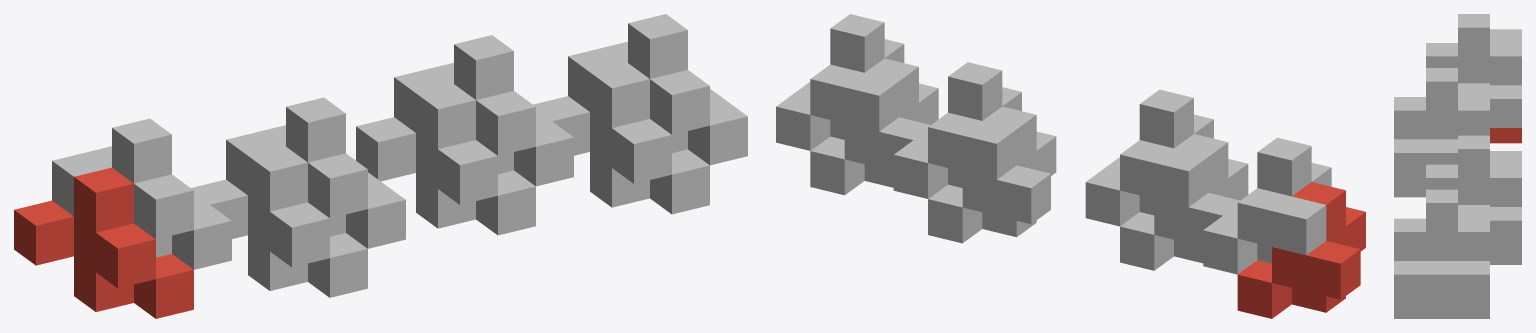
The model's file is tiling.obj.
3 renders of one model, left to right at view 1: azimuth 30°, elevation 25°; view 2: azimuth 150°, elevation 25°; view 3: azimuth 270°, elevation 25°, orthographic. The views are drawn at different scales.
Parts seen in each view (by area): view 1: copy_1_domain_1, copy_1_domain_5, copy_1_domain_6, copy_1_domain_2, copy_1_domain_3, copy_1_domain_4, copy_1_domain_7, copy_1_domain_8; view 2: copy_1_domain_4, copy_1_domain_3, copy_1_domain_7, copy_1_domain_8, copy_1_domain_5, copy_1_domain_1, copy_1_domain_2, copy_1_domain_6; view 3: copy_1_domain_8, copy_1_domain_4, copy_1_domain_7, copy_1_domain_3, copy_1_domain_6, copy_1_domain_1, copy_1_domain_2, copy_1_domain_5.
Boxes of the visible parts, x1=… form: copy_1_domain_1: x1=14, y1=167, x2=193, y2=318; copy_1_domain_5: x1=356, y1=84, x2=535, y2=235; copy_1_domain_6: x1=533, y1=63, x2=709, y2=214; copy_1_domain_2: x1=191, y1=146, x2=367, y2=297; copy_1_domain_3: x1=52, y1=118, x2=231, y2=269; copy_1_domain_4: x1=226, y1=97, x2=405, y2=248; copy_1_domain_7: x1=394, y1=35, x2=573, y2=186; copy_1_domain_8: x1=568, y1=14, x2=747, y2=165; copy_1_domain_4: x1=1085, y1=89, x2=1213, y2=226; copy_1_domain_3: x1=1203, y1=137, x2=1331, y2=274; copy_1_domain_7: x1=893, y1=62, x2=1021, y2=198; copy_1_domain_8: x1=776, y1=14, x2=904, y2=150; copy_1_domain_5: x1=928, y1=106, x2=1056, y2=243; copy_1_domain_1: x1=1237, y1=182, x2=1365, y2=318; copy_1_domain_2: x1=1120, y1=134, x2=1248, y2=270; copy_1_domain_6: x1=810, y1=58, x2=938, y2=195; copy_1_domain_8: x1=1394, y1=189, x2=1489, y2=303; copy_1_domain_4: x1=1394, y1=68, x2=1489, y2=181; copy_1_domain_7: x1=1426, y1=135, x2=1521, y2=249; copy_1_domain_3: x1=1426, y1=14, x2=1521, y2=127; copy_1_domain_6: x1=1394, y1=303, x2=1489, y2=318; copy_1_domain_1: x1=1490, y1=128, x2=1521, y2=143; copy_1_domain_2: x1=1394, y1=182, x2=1425, y2=197; copy_1_domain_5: x1=1490, y1=249, x2=1521, y2=264.
Size of the model in its own units: 17 by 4 by 4.
